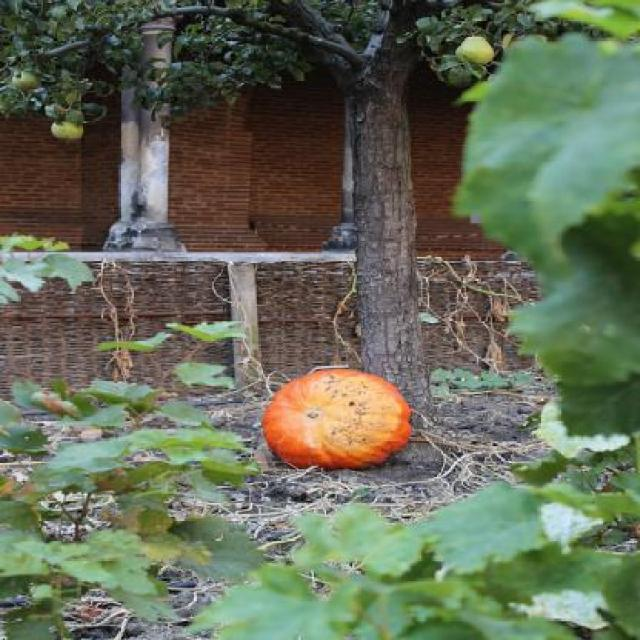Pumpkin: (262, 364, 409, 472)
